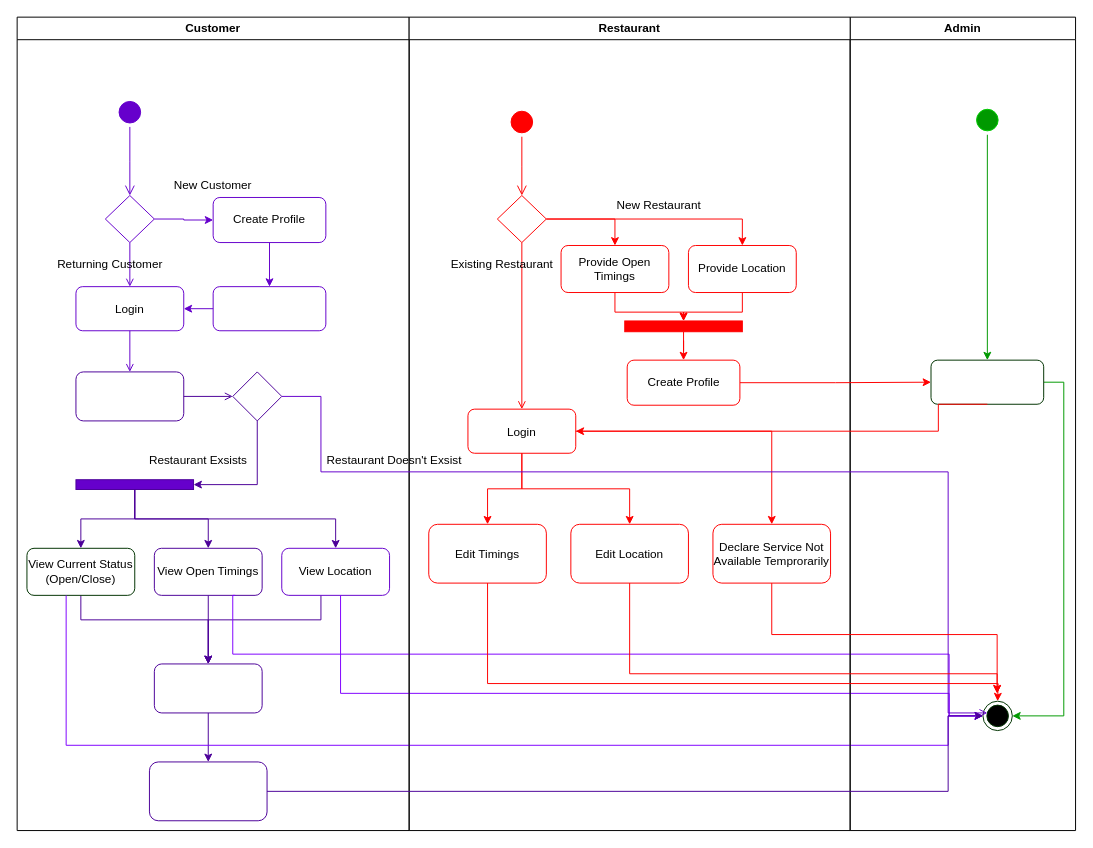
Image size: 1093x848. Some labels were removed from this diagram. The shapes that lost their labels are listed below. From the top down, each one's box as (x1, y1, x2, y2) in pixels, then its label:
(212, 286, 326, 331): Verify Profile
(75, 371, 184, 421): Search Restaurant
(930, 359, 1044, 404): Authorize Profile
(153, 663, 262, 713): Select Menu
(148, 761, 267, 821): View Total
